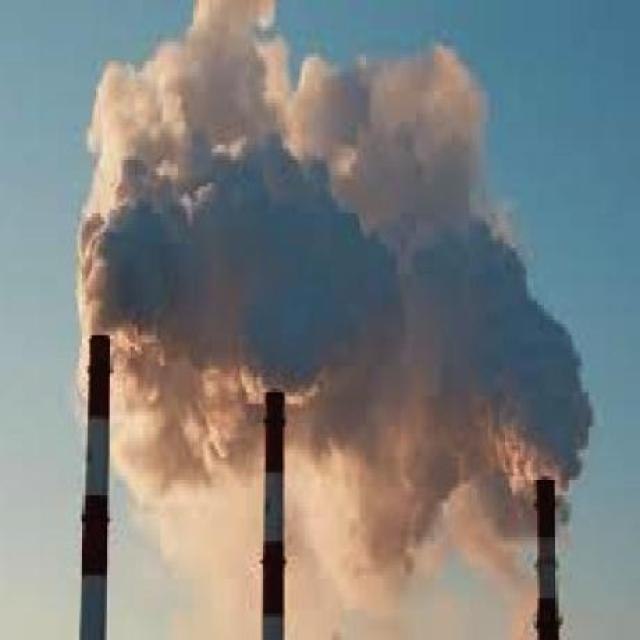Smoke: (90, 168, 416, 402), (94, 0, 464, 157), (284, 391, 500, 619), (428, 220, 596, 486), (117, 418, 261, 594)
